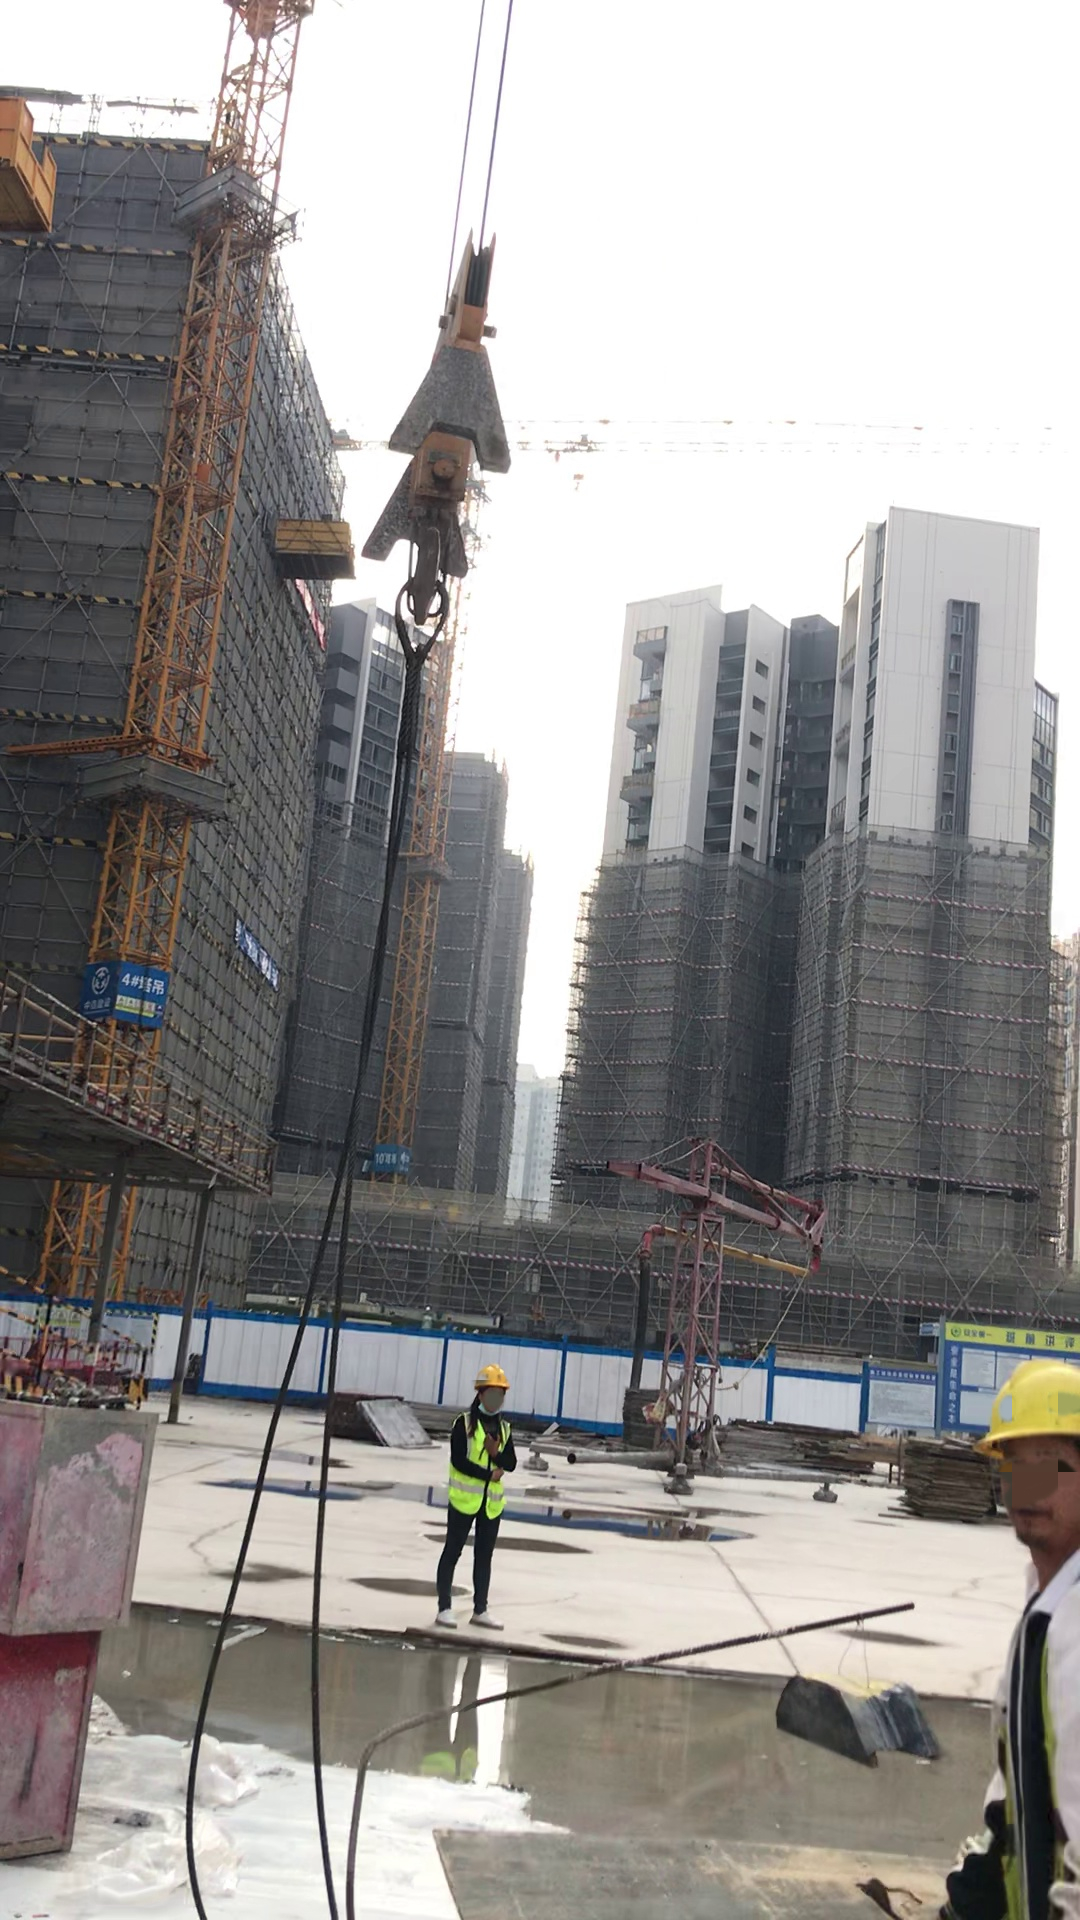helmet: (965, 1357, 1080, 1451), (470, 1361, 511, 1390)
hook: (351, 247, 530, 601)
person: (937, 1347, 1080, 1919), (433, 1353, 533, 1641)
vest: (935, 1588, 1080, 1913), (454, 1410, 508, 1515)
